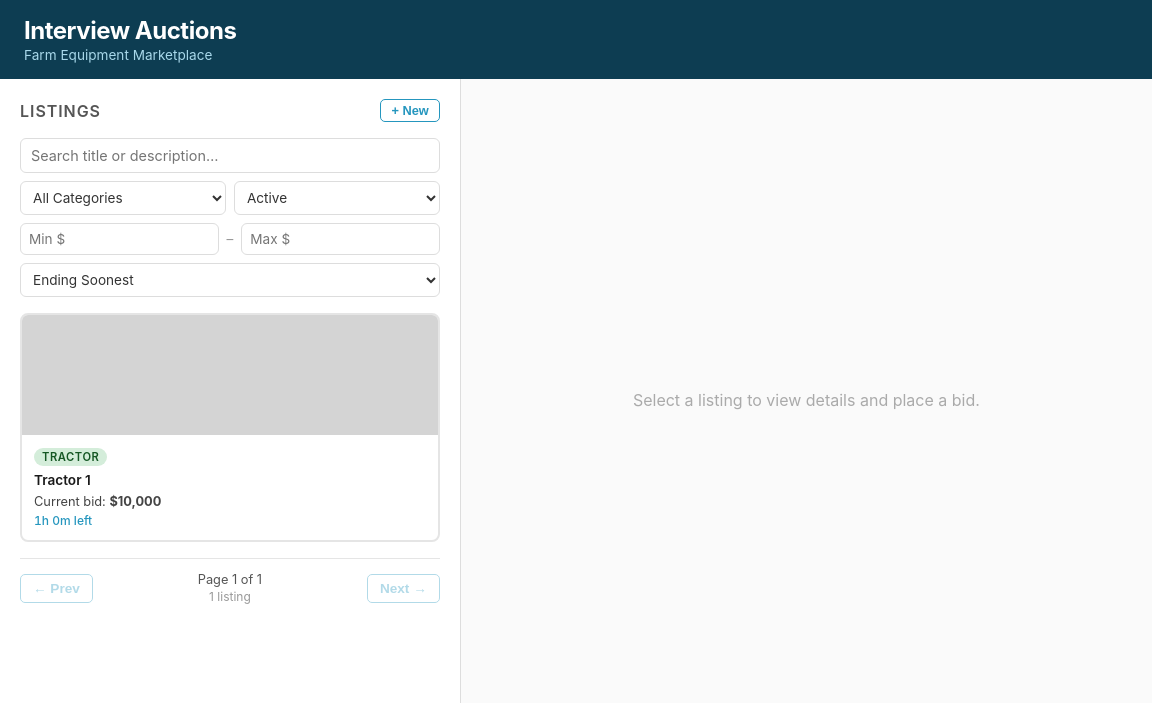
it: App › creating a listing › opens the form
expect the heading "Tractor 1" is shown: met, box [34,472,91,488]
Click the button "+ New". click: (410, 110)
box: [380,99,440,122]
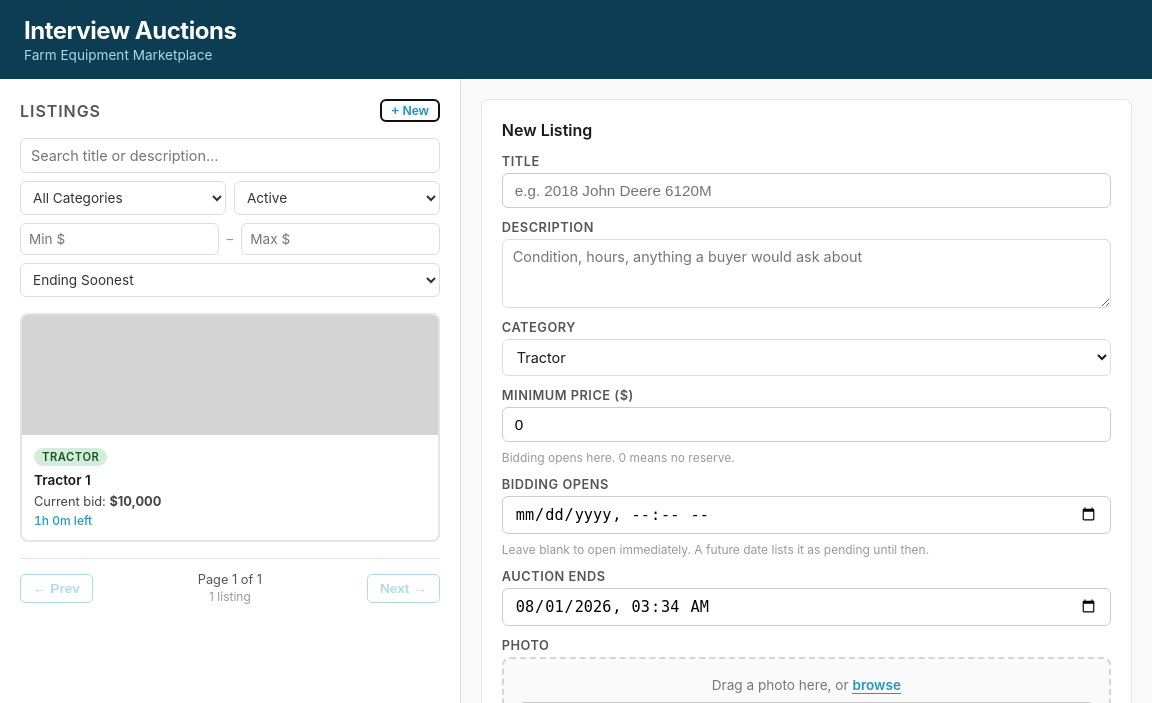
expect the heading "New Listing" is shown: met, box [502,120,592,140]
